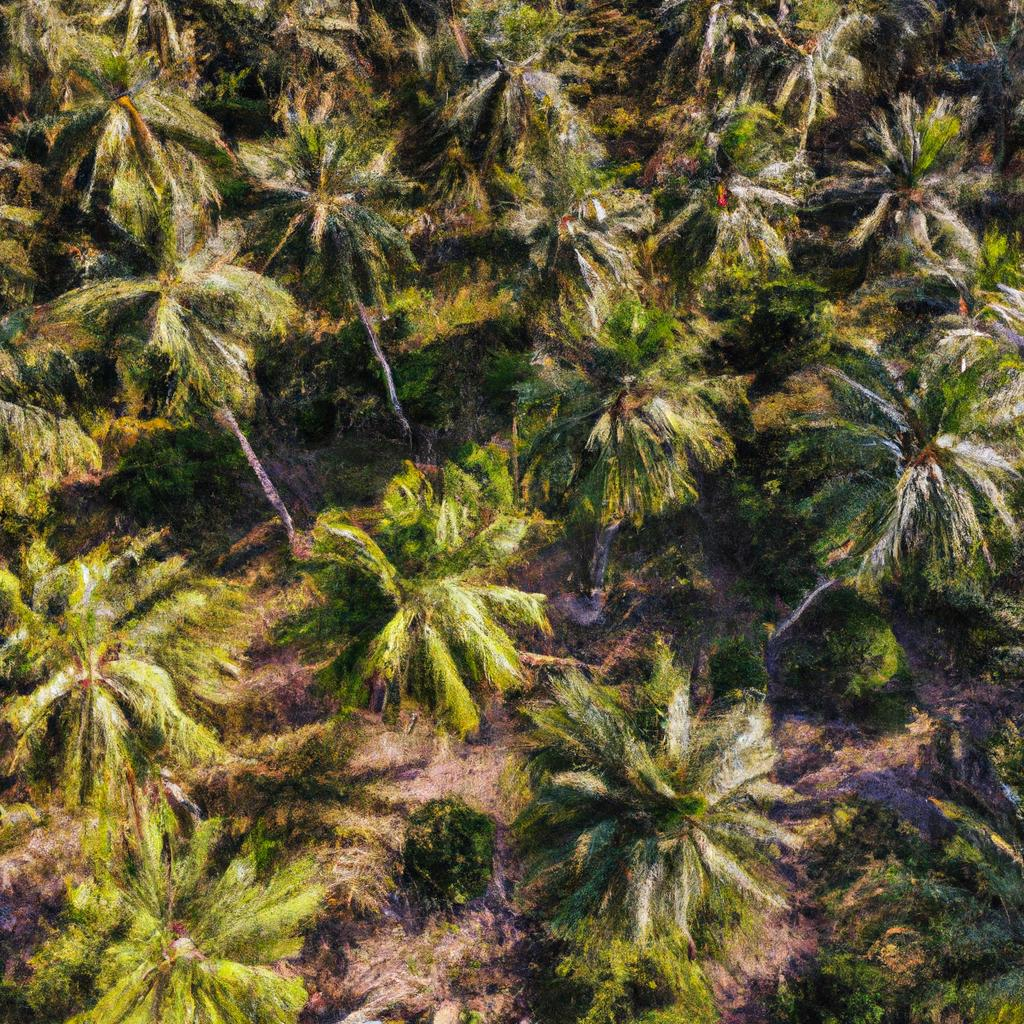coconut_tree: (508, 624, 820, 947), (767, 285, 1023, 607), (286, 447, 550, 748), (502, 262, 770, 545), (0, 507, 253, 800), (40, 801, 335, 1023), (28, 185, 283, 420)
